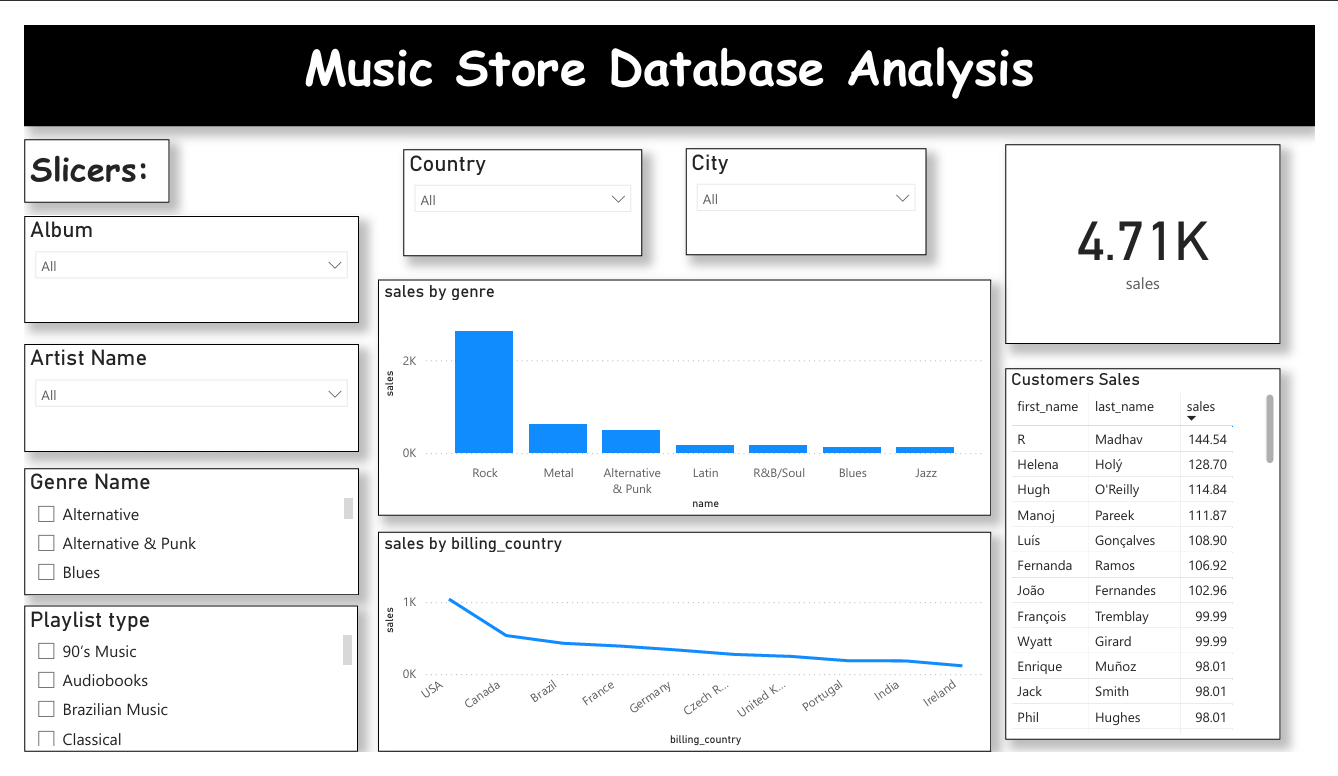

This screenshot's page, from the dashboard's own definition file:
{"tool":"powerbi","page":{"name":"Page 1","canvas":[1280,720],"ordinal":0},"visuals":[{"type":"card","fields":{"Values":["public invoice_line.sales"]},"box":[972.9,118,273.1,197.6],"z":0},{"type":"textbox","title":"dcdc","box":[0,0,1280.3,100.2],"z":1000},{"type":"slicer","title":"Artist Name","fields":{"Values":["public artist.name"]},"box":[0,315.6,332.1,107],"z":2000},{"type":"slicer","title":"Country","fields":{"Values":["public customer.country"]},"box":[376,123.5,237.4,105.7],"z":3000},{"type":"slicer","title":"City","fields":{"Values":["public customer.city"]},"box":[655.9,122.1,238.8,105.7],"z":4000},{"type":"slicer","title":"Genre Name","fields":{"Values":["public genre.name"]},"box":[0,439.1,332.1,126.2],"z":5000},{"type":"textbox","box":[0,112.5,144.1,63.1],"z":6000},{"type":"slicer","title":"Album ","fields":{"Values":["public album.title"]},"box":[0,189.4,332.1,105.7],"z":7000},{"type":"slicer","title":"Playlist type","fields":{"Values":["public playlist.name"]},"box":[0,575,330.7,145.5],"z":8000},{"type":"lineChart","fields":{"Y":["public invoice_line.sales"],"Category":["public invoice.billing_country"]},"box":[351.3,502.2,607.9,218.2],"z":9000},{"type":"clusteredColumnChart","title":"sales by genre","fields":{"Category":["public genre.name"],"Y":["public invoice_line.sales"]},"box":[351.3,252.5,607.9,233.3],"z":10000},{"type":"tableEx","title":"Customers Sales","fields":{"Values":["public customer.first_name","public customer.last_name","public invoice_line.sales"]},"box":[972.9,340.3,273.1,367.8],"z":10001}]}

Visuals, with their boxes in screenshot pixels (x1, y1, x2, y2):
card - public invoice_line.sales: box(999, 138, 1270, 335)
"dcdc" textbox: box(31, 21, 1304, 121)
"Artist Name" slicer: box(31, 335, 362, 441)
"Country" slicer: box(405, 144, 641, 249)
"City" slicer: box(684, 142, 921, 247)
"Genre Name" slicer: box(31, 458, 362, 583)
textbox: box(31, 133, 175, 196)
"Album " slicer: box(31, 209, 362, 314)
"Playlist type" slicer: box(31, 593, 360, 737)
lineChart - public invoice_line.sales x public invoice.billing_country: box(381, 520, 985, 737)
"sales by genre" clusteredColumnChart: box(381, 272, 985, 504)
"Customers Sales" tableEx: box(999, 359, 1270, 725)
